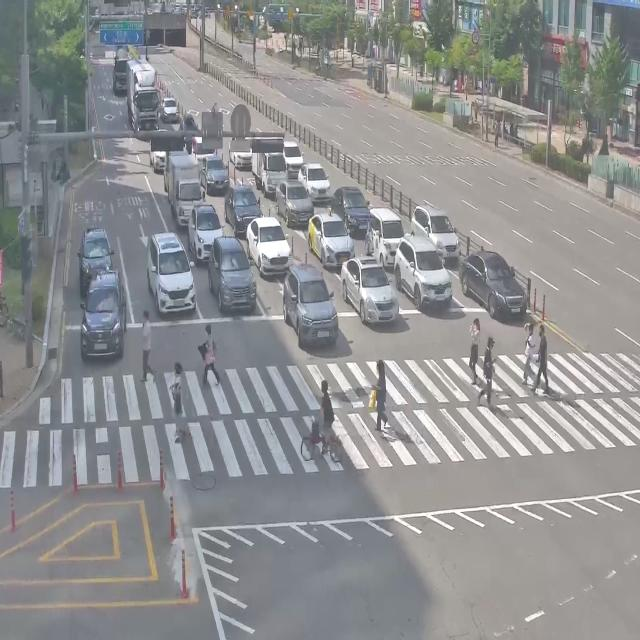Car: (458, 248, 527, 320), (283, 262, 338, 347), (394, 233, 453, 310), (79, 271, 127, 360), (340, 256, 399, 326), (147, 231, 196, 314), (208, 235, 256, 313), (410, 194, 457, 256), (245, 216, 293, 276), (308, 213, 356, 268), (78, 226, 114, 293), (329, 174, 369, 234), (187, 203, 224, 264), (224, 184, 264, 237), (365, 202, 403, 256), (278, 177, 314, 222), (197, 155, 230, 191), (302, 157, 329, 200), (283, 132, 307, 177), (229, 130, 252, 171), (146, 135, 170, 171), (162, 95, 182, 128)
Truck: (165, 151, 210, 219), (126, 64, 161, 136), (252, 141, 283, 192), (109, 49, 129, 97)
